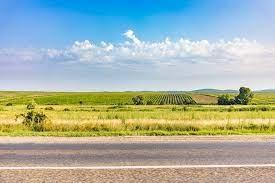road: (0, 136, 274, 182), (0, 136, 274, 166)
